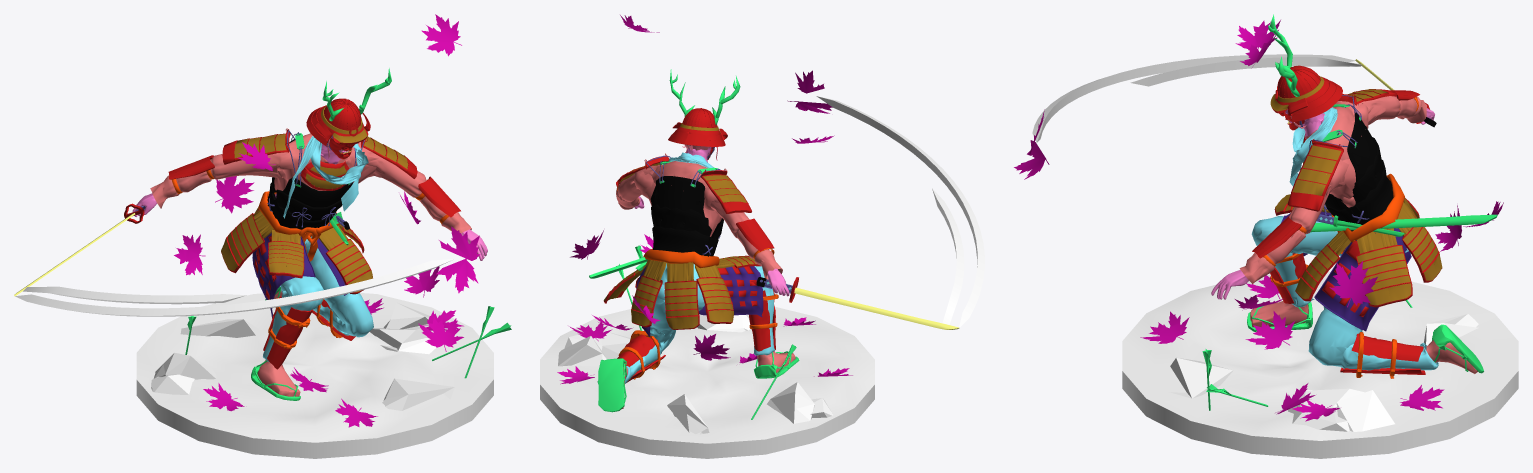
File: jin.fbx
3 renders of one model, left to right at view 1: azimuth 30°, elevation 25°; view 2: azimuth 150°, elevation 25°; view 3: azimuth 270°, elevation 25°, orthographic. The views are drawn at different scales.
Parts seen in each view (by area): view 1: Object005; view 2: Object005; view 3: Object005.
Boxes of the visible parts, box(x1,y1,x2,y2) form: Object005: box(14, 14, 511, 458); Object005: box(540, 15, 984, 458); Object005: box(1014, 14, 1518, 458).
Size of the model in its own units: 526 by 407 by 469.
